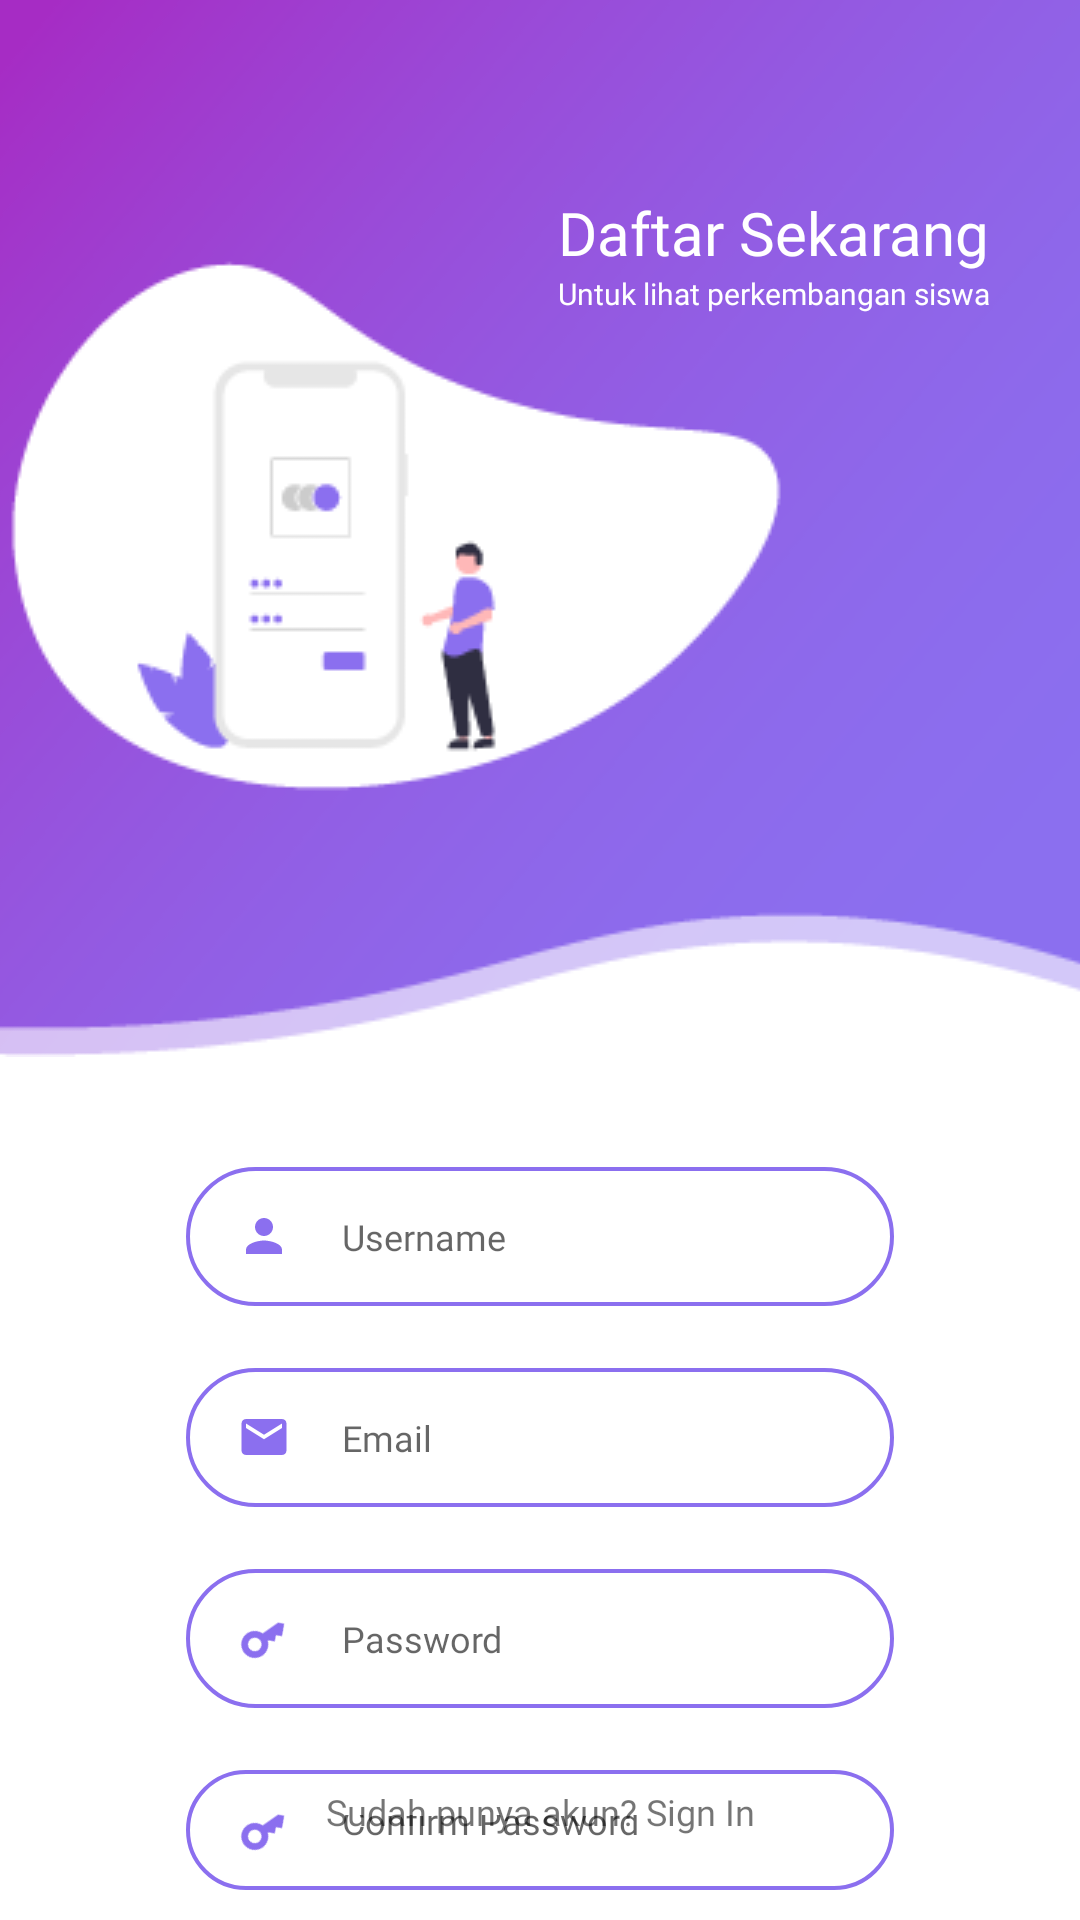

Icon click points for this 1080 x 1920 phone screenshot, format (x=x, y=y):
person: (x=264, y=1236)
